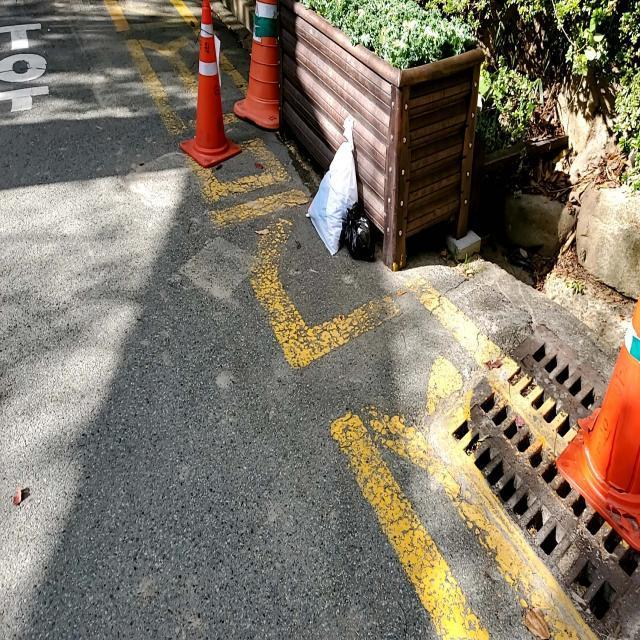Trashbag: (336, 201, 376, 270)
